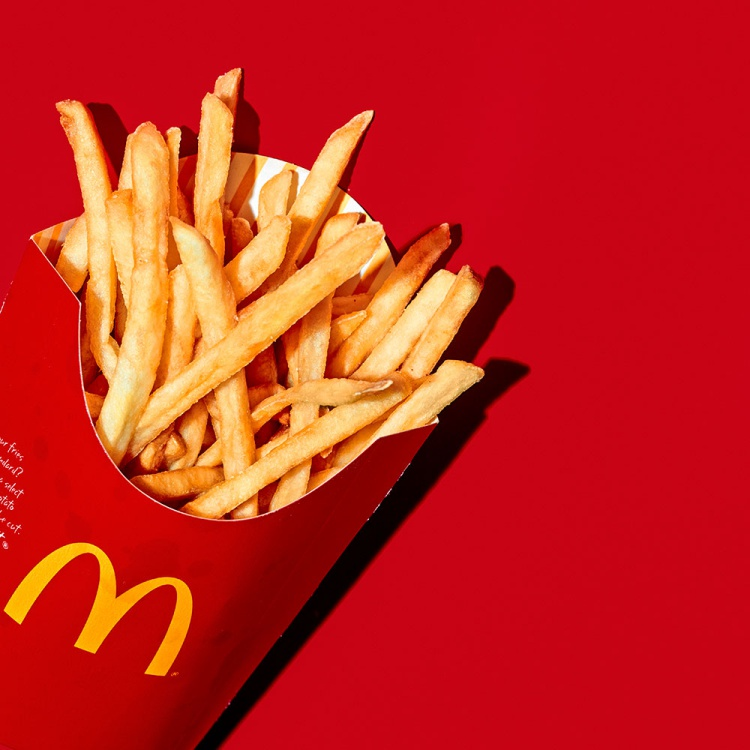mcdonalds: (1, 535, 197, 687)
